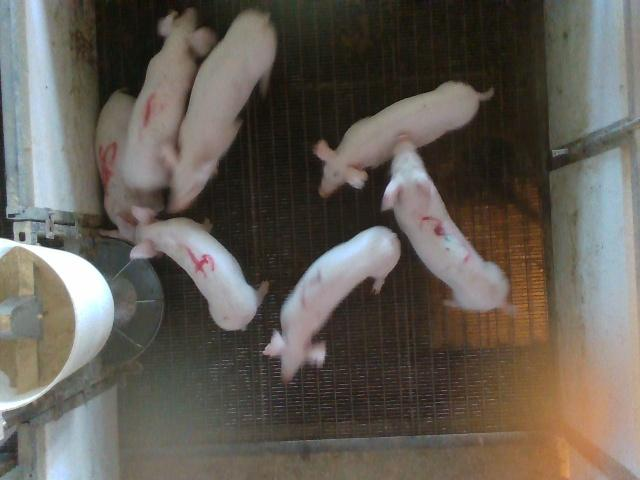pig-1: (122, 8, 216, 192)
pig-2: (264, 226, 401, 382)
pig-3: (382, 141, 512, 311)
pig-4: (130, 206, 269, 329)
pig-5: (96, 90, 145, 241)
